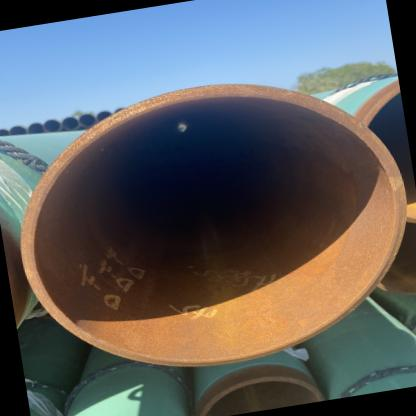clean: (208, 63, 262, 112)
